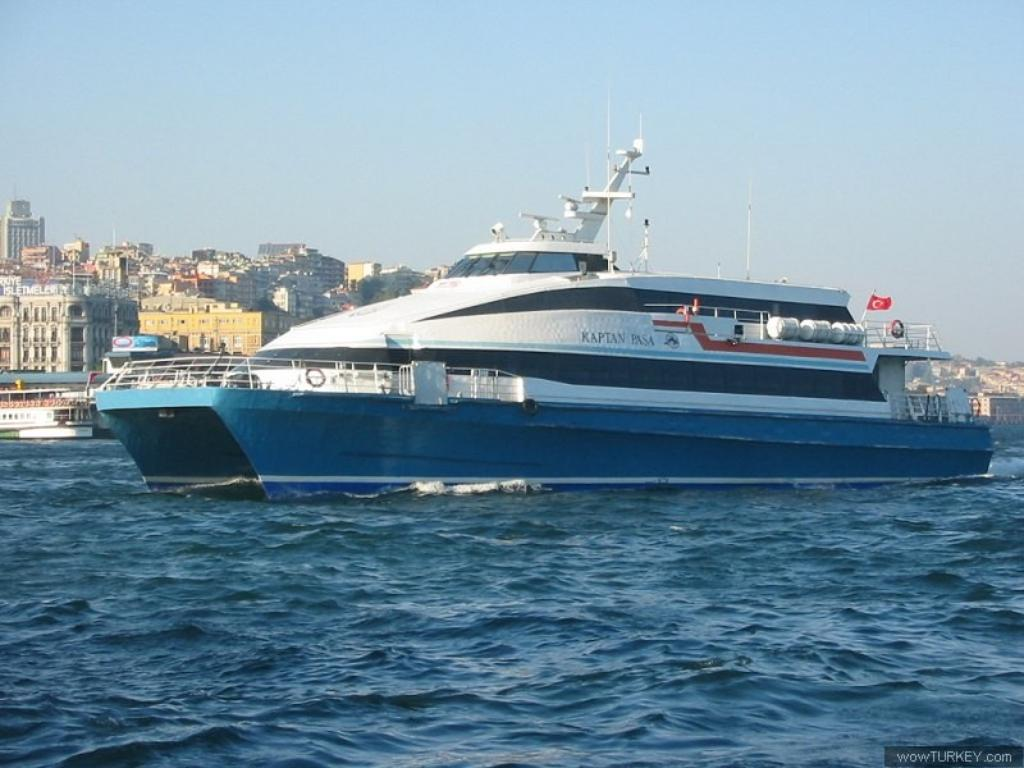PassengerShip: (84, 112, 998, 493)
